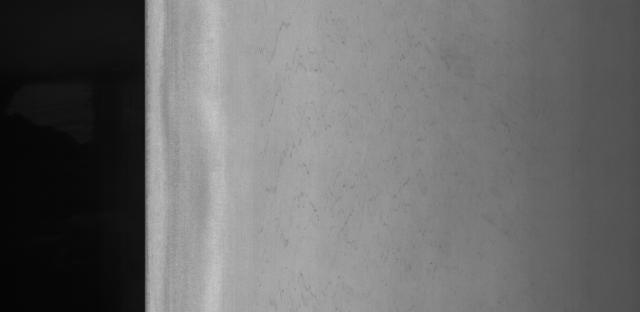silk_spot: (228, 29, 474, 280)
